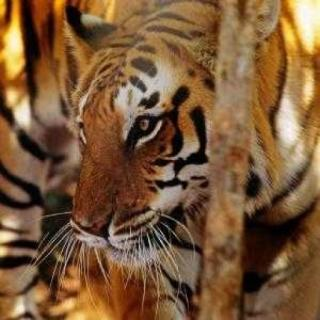Tiger: (59, 0, 320, 317)
